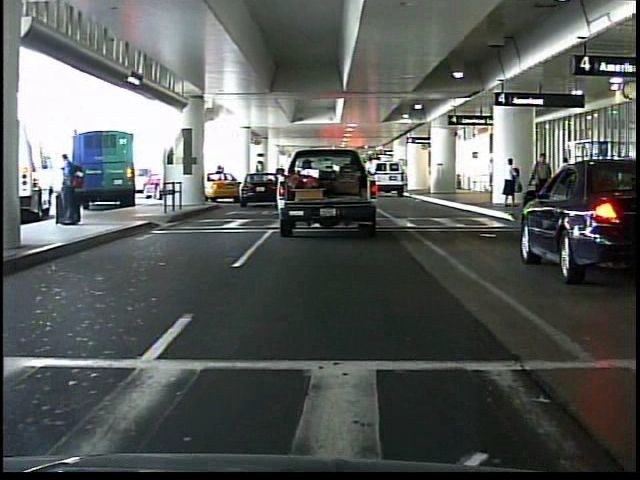person: (54, 147, 88, 235), (530, 149, 555, 214), (500, 155, 524, 210)
